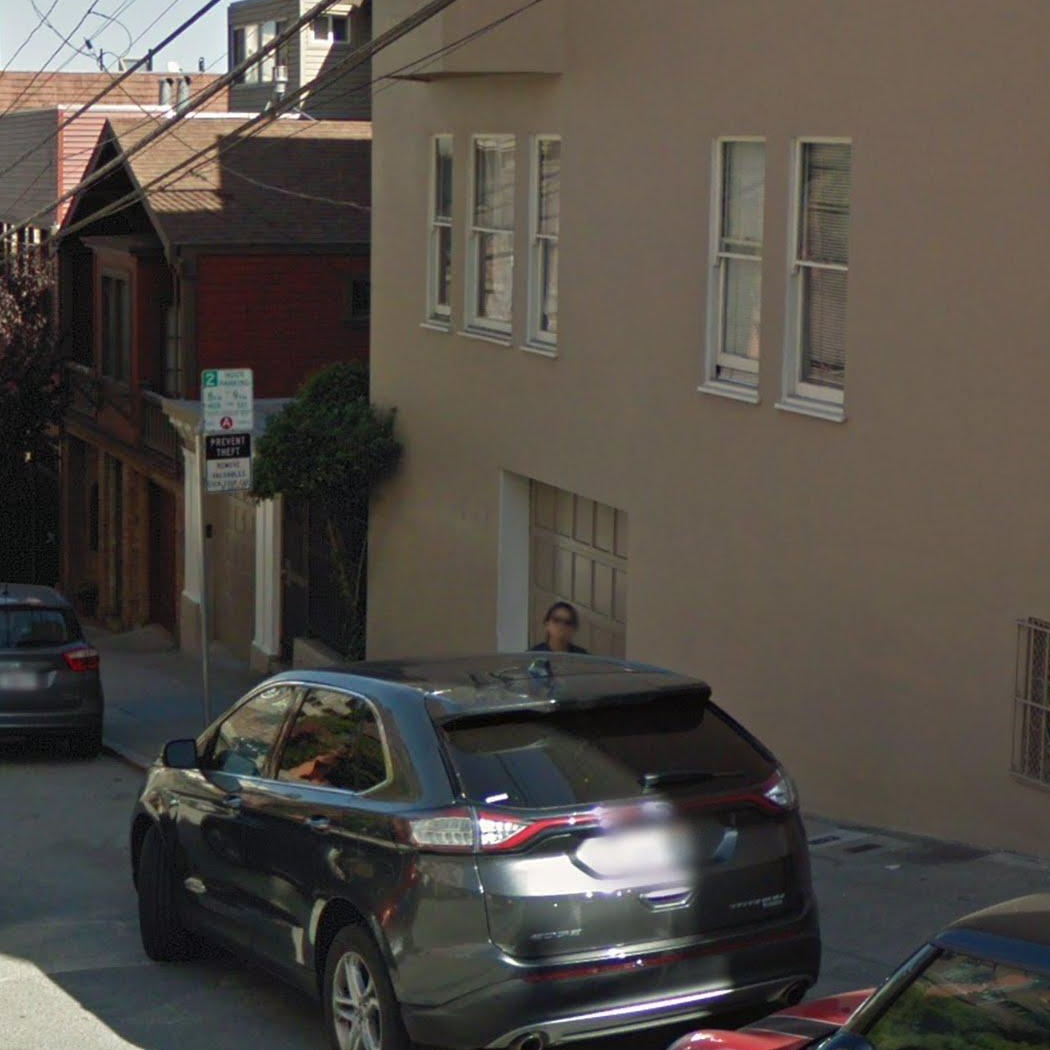2 Hour Parking: (201, 367, 254, 433)
